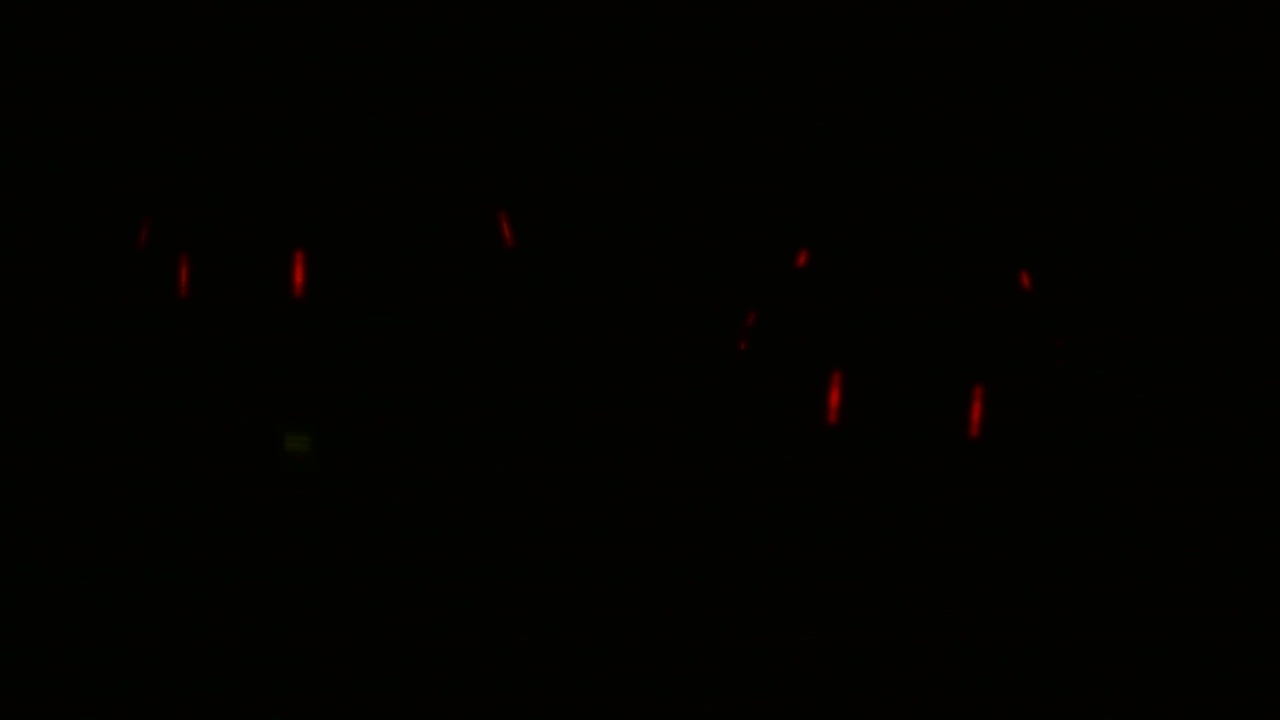pair1: (822, 365, 988, 443), (176, 244, 309, 303)
